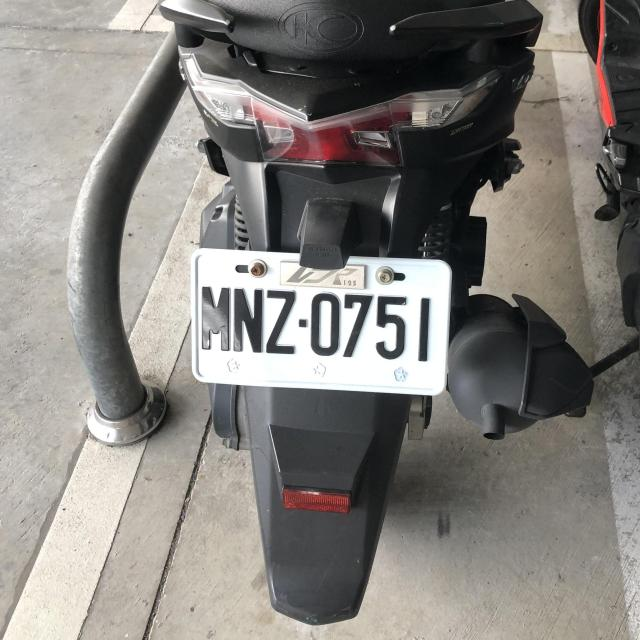W: (186, 248, 451, 397)
